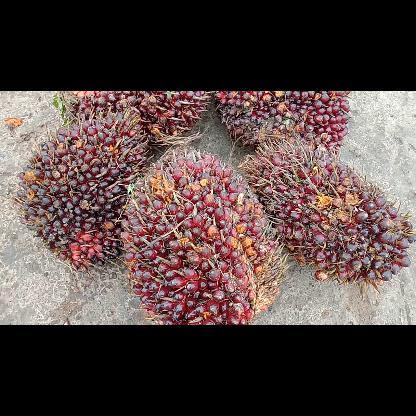Kurang masak: (117, 142, 289, 324), (236, 135, 416, 291), (10, 109, 152, 271), (208, 91, 352, 165), (57, 91, 212, 145)
